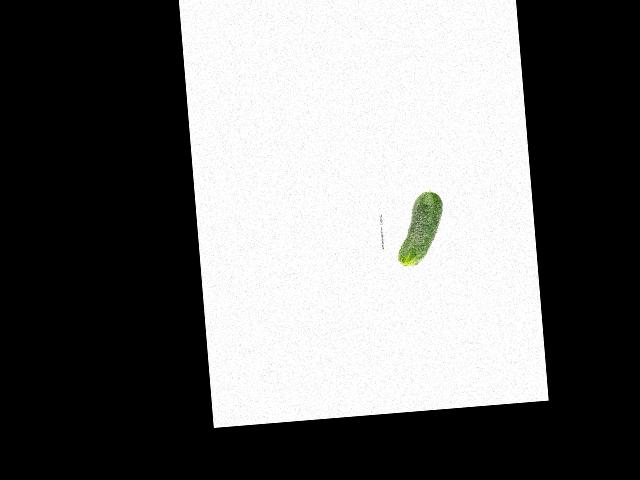cucumber: (392, 190, 447, 266)
